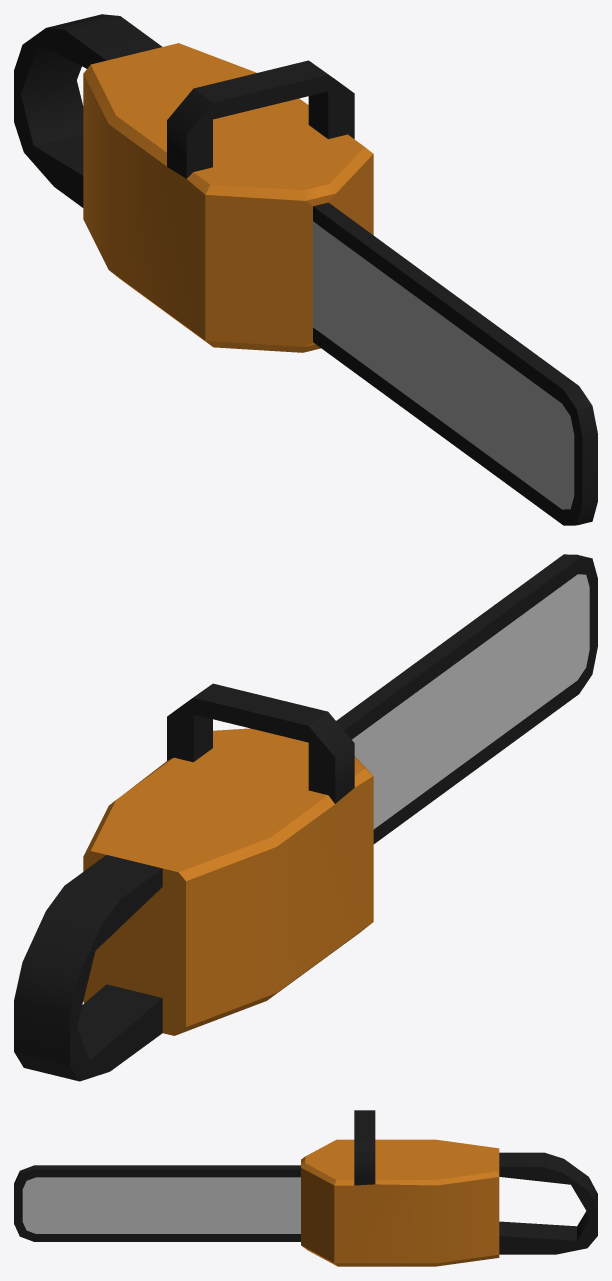
File: Chainsaw.fbx
3 renders of one model, top to bottom at view 1: azimuth 30°, elevation 25°; view 2: azimuth 150°, elevation 25°; view 3: azimuth 270°, elevation 25°, orthographic. The views are drawn at different scales.
Visible parts, largest first — view 1: pCube1; view 2: pCube1; view 3: pCube1.
Part boxes in pixels (bbox=[...]): pCube1: bbox=[14, 14, 597, 525]; pCube1: bbox=[14, 554, 597, 1081]; pCube1: bbox=[14, 1110, 597, 1266].
Size of the model in its own units: 18.81 by 24.5 by 106.
